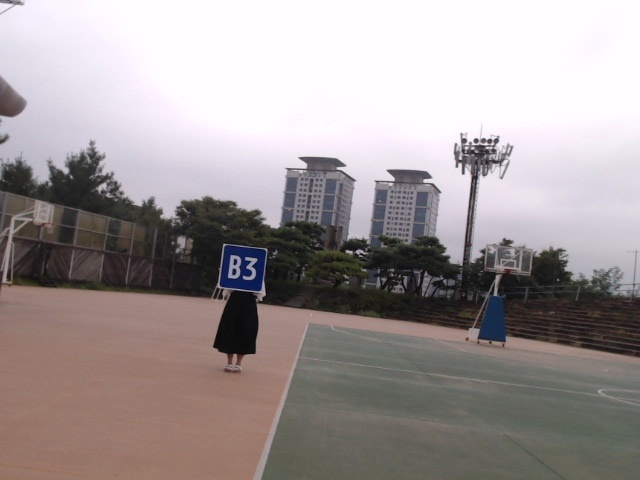delivery_b3: (220, 243, 267, 292)
